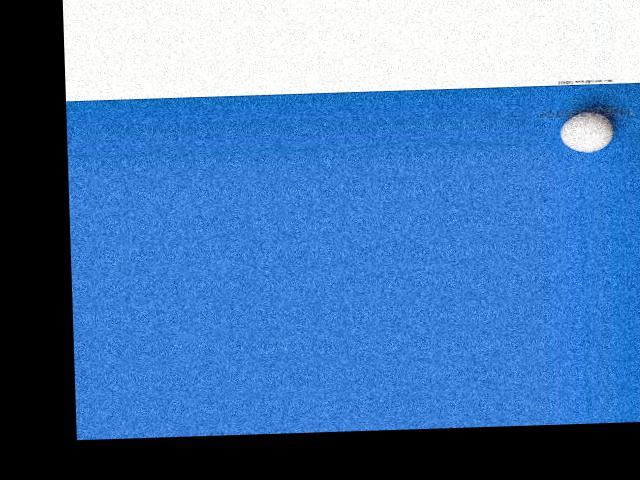egg: (560, 109, 614, 152)
